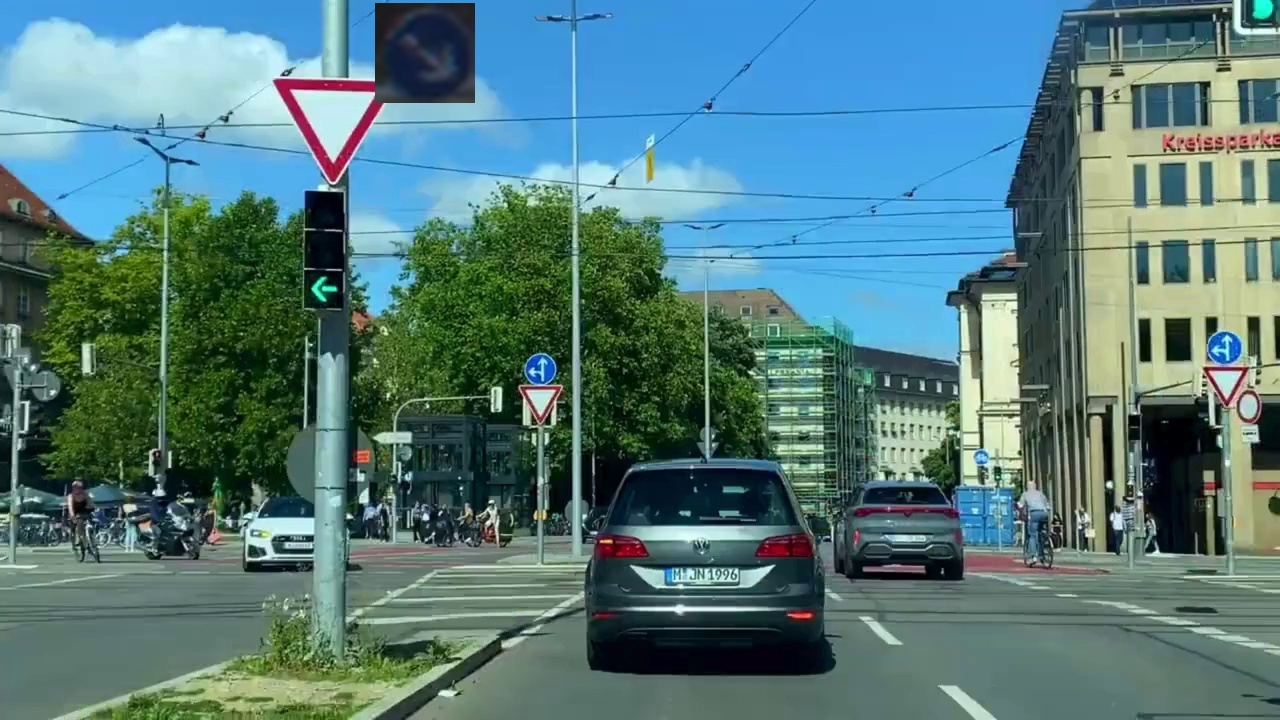Keep right: (375, 3, 475, 103)
